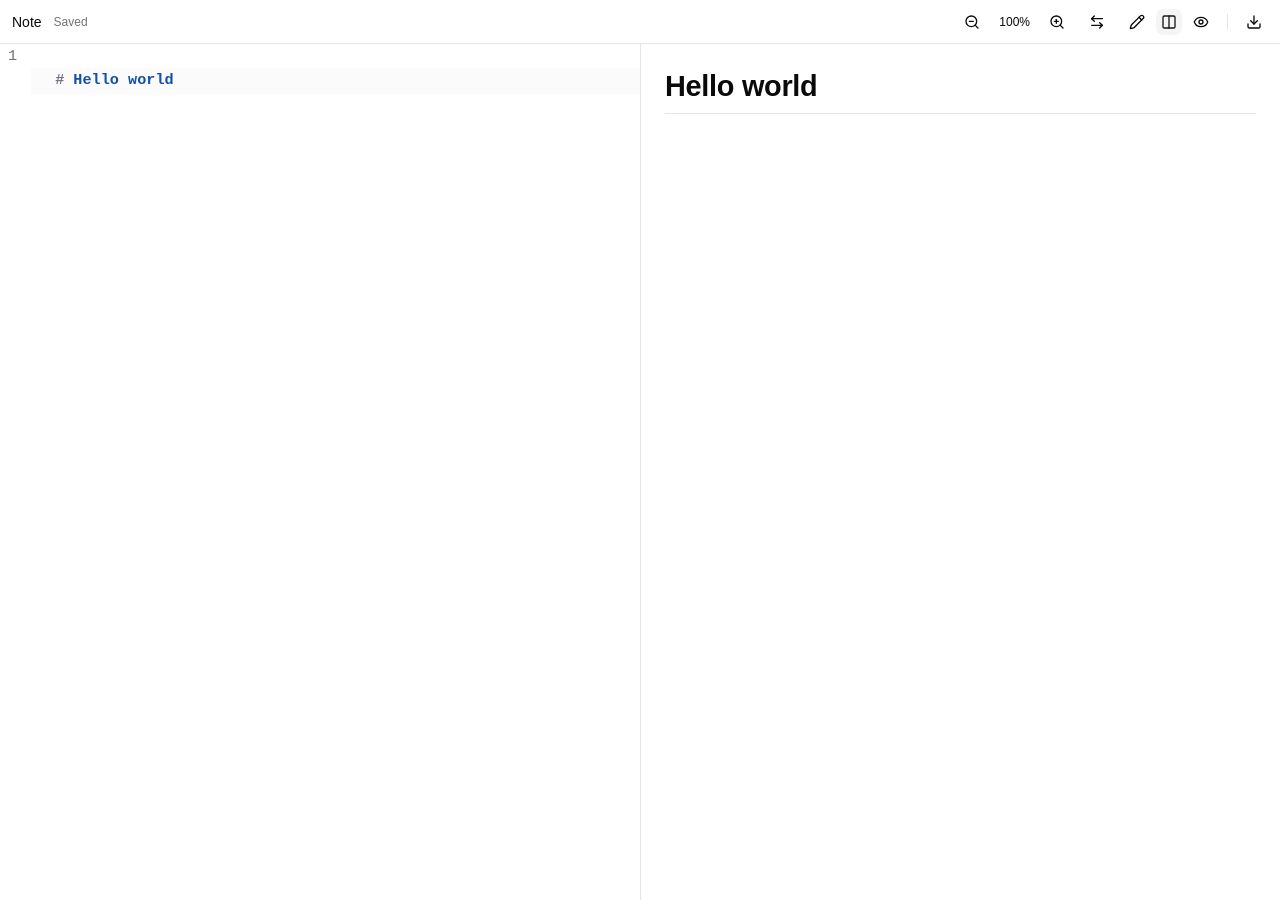
Test: NotesEditor note zoom › resets back to 100%
The image size is (1280, 900).
Click the button named "Zoom in".
click(1057, 22)  # box top-left (1043, 8), bottom-right (1071, 36)
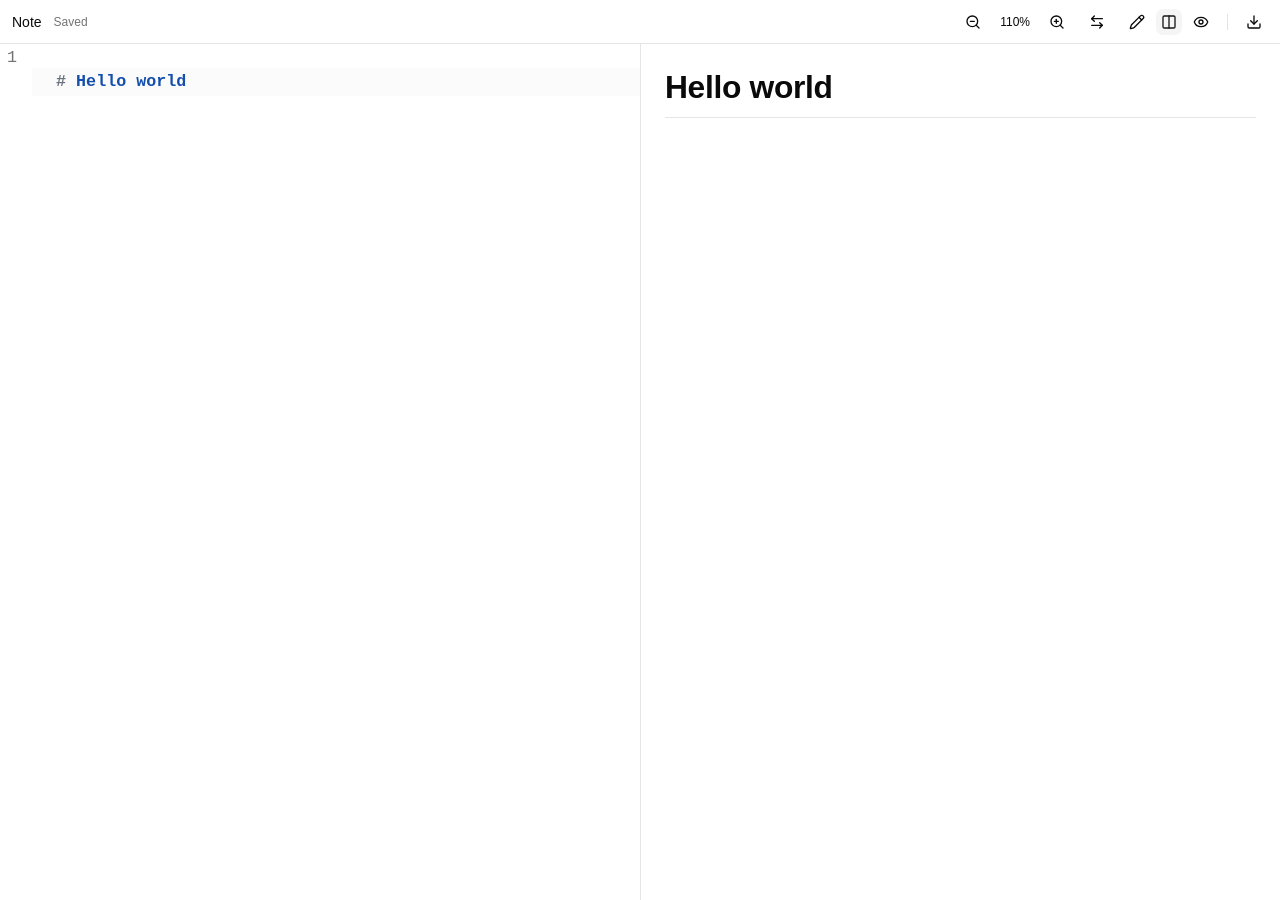
Click the button named "Reset zoom".
click(1015, 22)  # box top-left (989, 8), bottom-right (1041, 36)
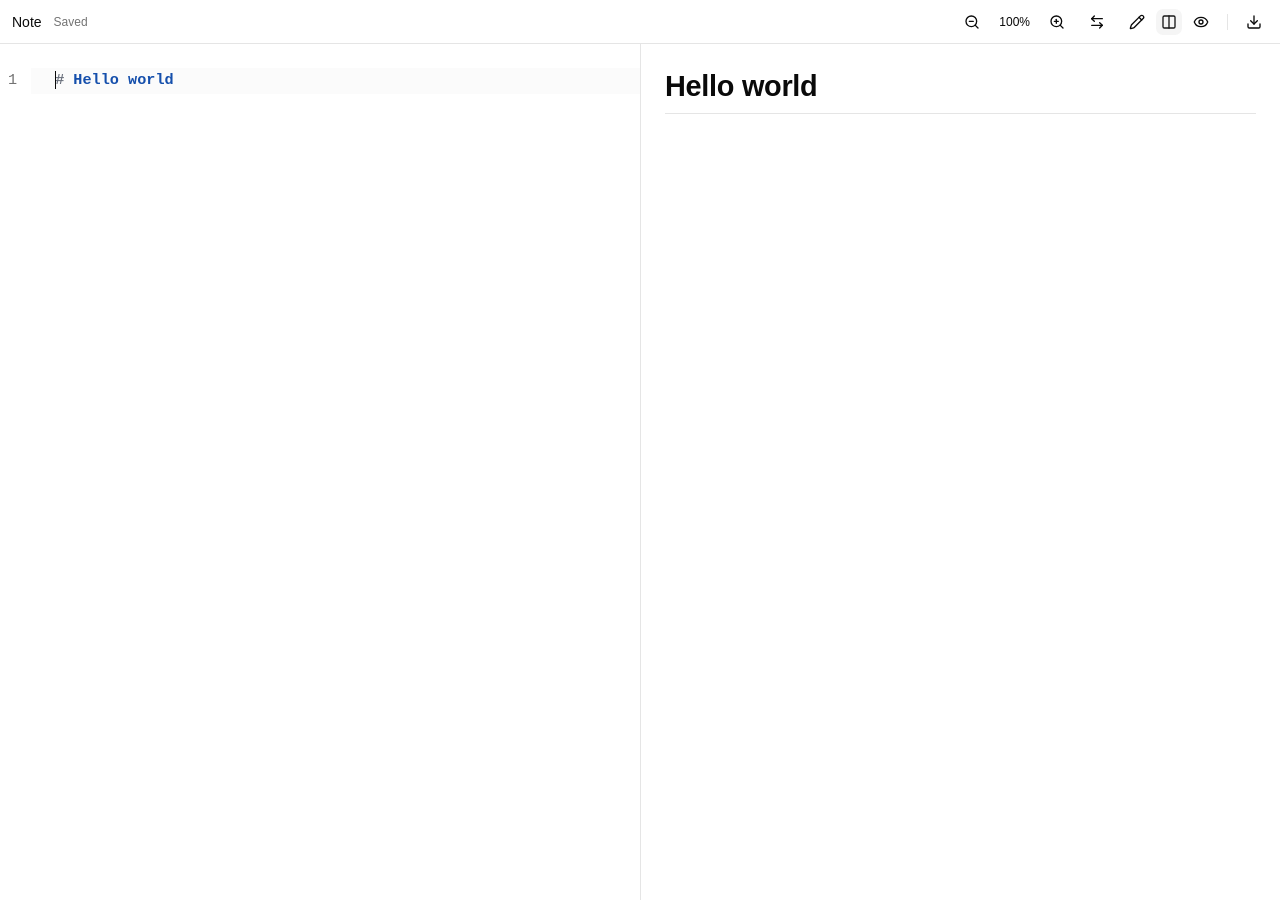
Result: the button "100%" is shown at top-left (988, 8), bottom-right (1041, 36)
